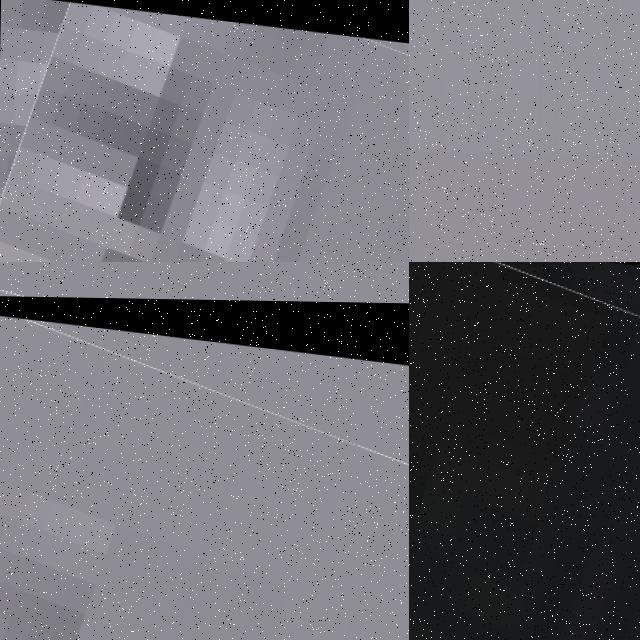drone: (0, 292, 409, 640), (0, 0, 409, 262), (409, 262, 640, 640)
